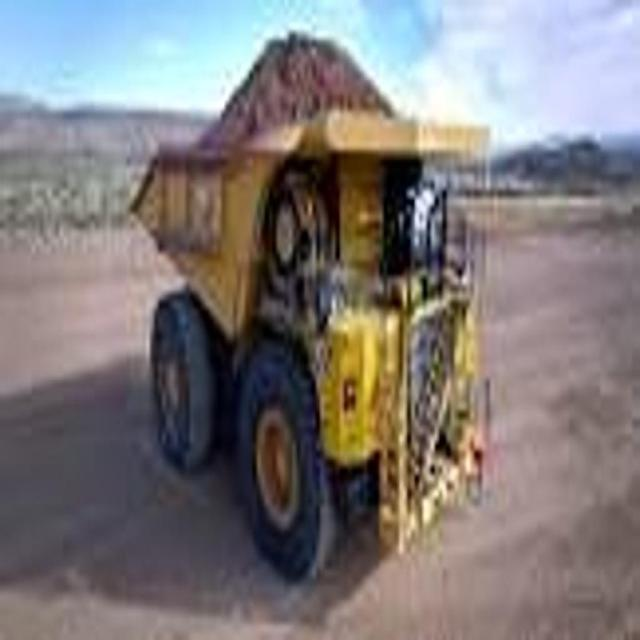dump_truck: (136, 25, 497, 580)
